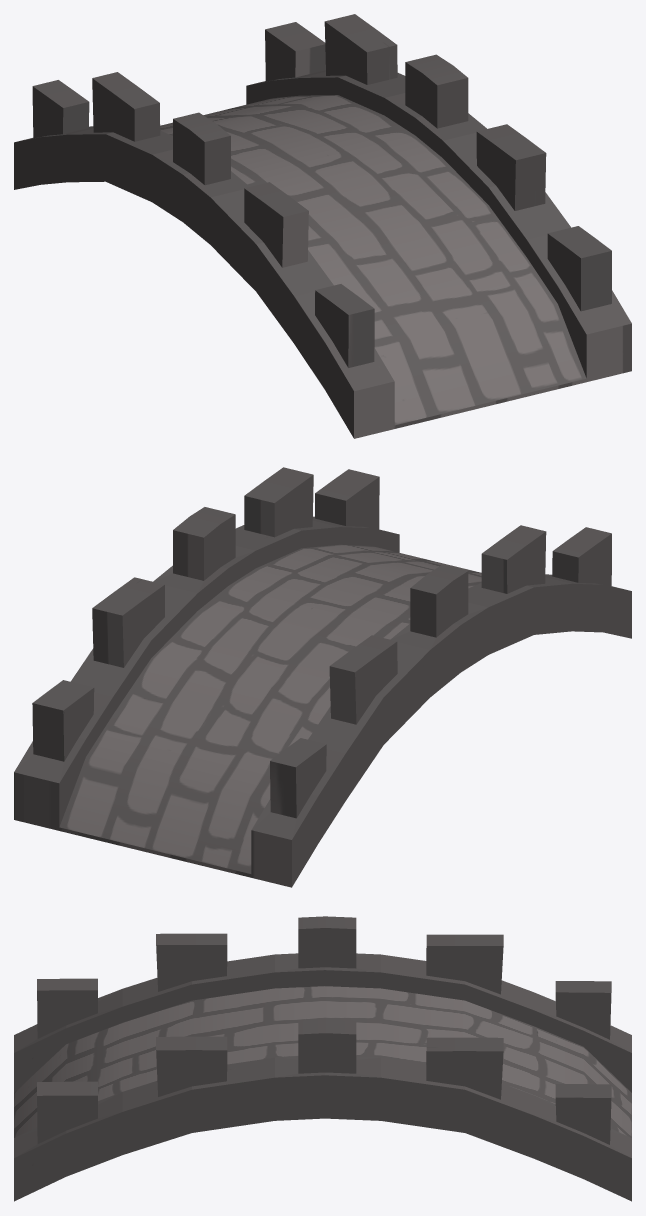
Rendered from bridge.FBX.
3 views of the same model, one above another, from view 1: azimuth 30°, elevation 25°; view 2: azimuth 150°, elevation 25°; view 3: azimuth 270°, elevation 25° (orthographic). The views are drawn at different scales.
Visible parts, largest first — view 1: Box001; view 2: Box001; view 3: Box001.
Part boxes in pixels (x1,y1,x2,y2): Box001: (14, 14, 631, 438); Box001: (14, 467, 631, 887); Box001: (14, 916, 631, 1201).
Size of the model in its own units: 71.72 by 44.86 by 152.
